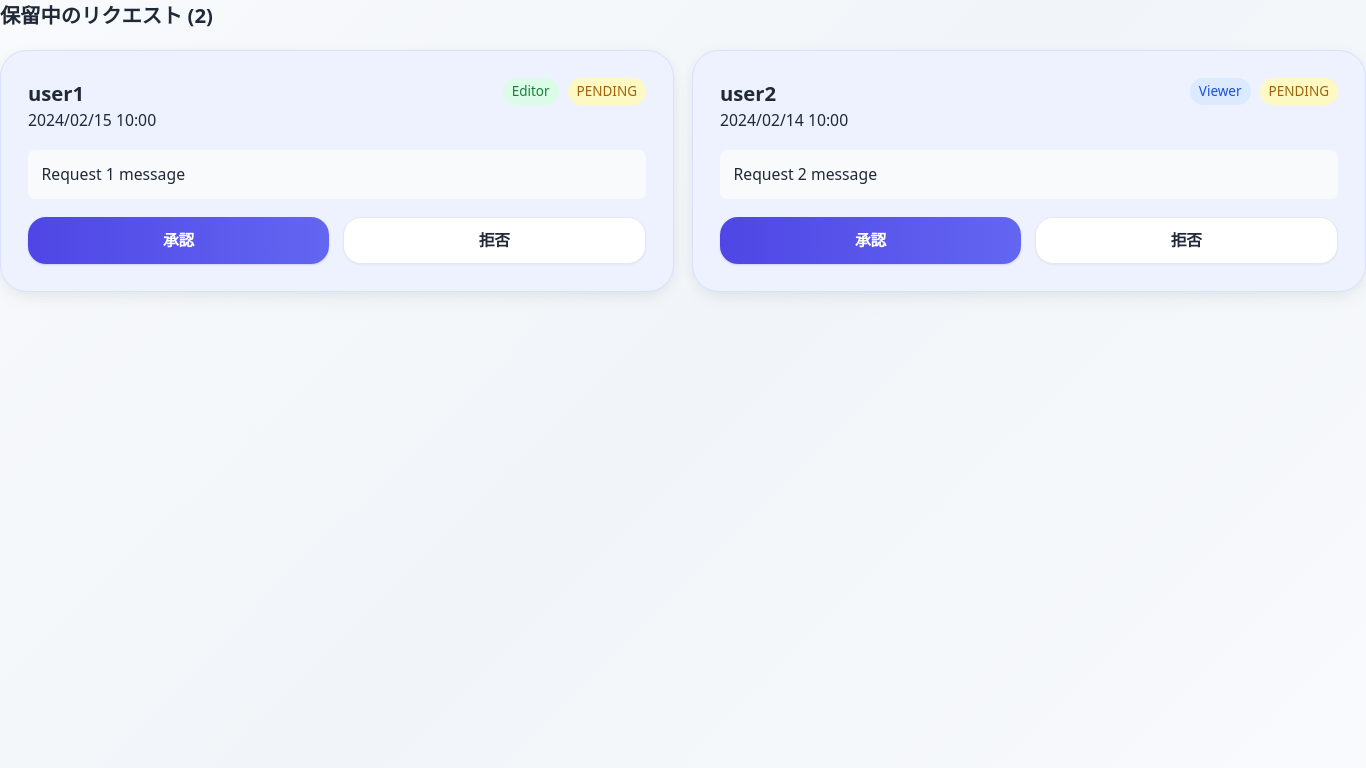
Test: AuthRequestList › approve action › should show error message when approve fails
Expected: the heading "user1" is shown, [28,78,84,106]
Click the button "承認" below "Request 1 message" at x=179, y=240, box [28,217,329,264]
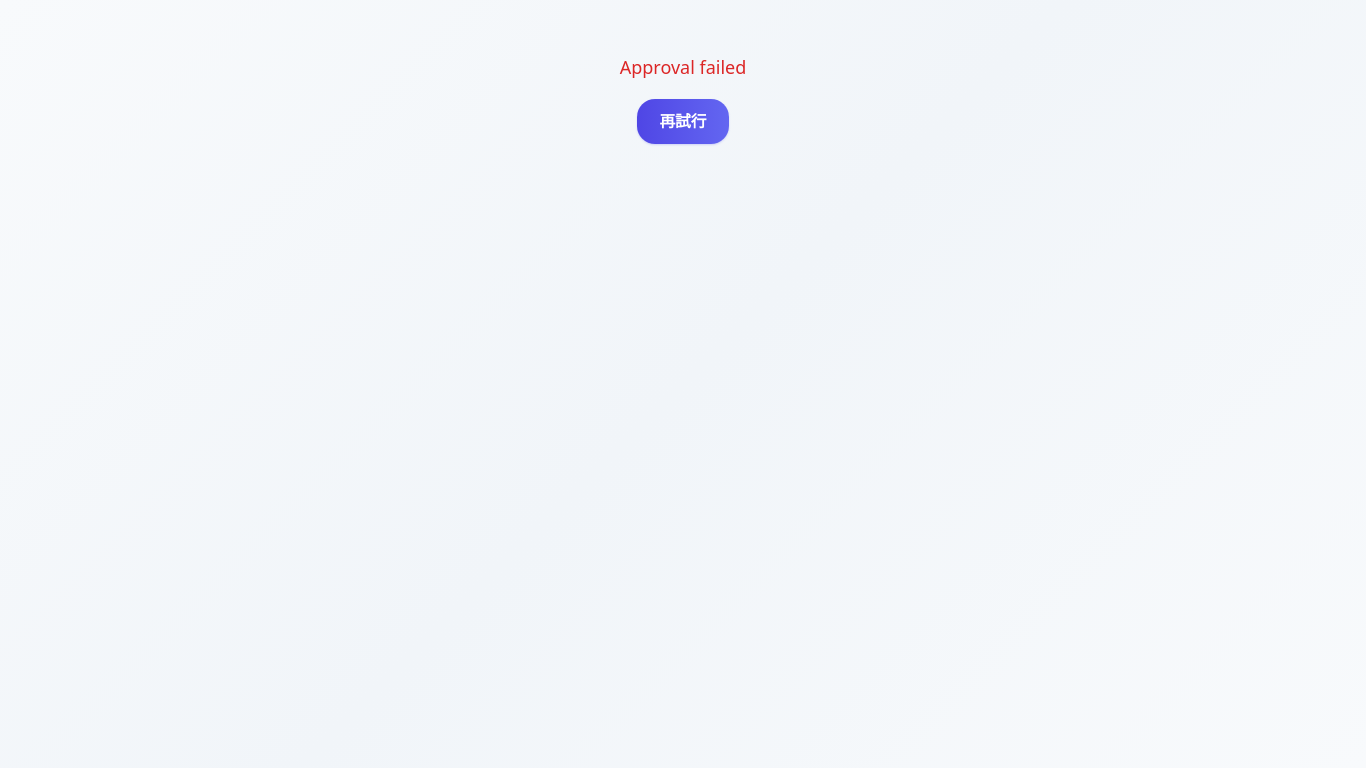
Result: the text "Approval failed" is shown at [620,55,746,79]
